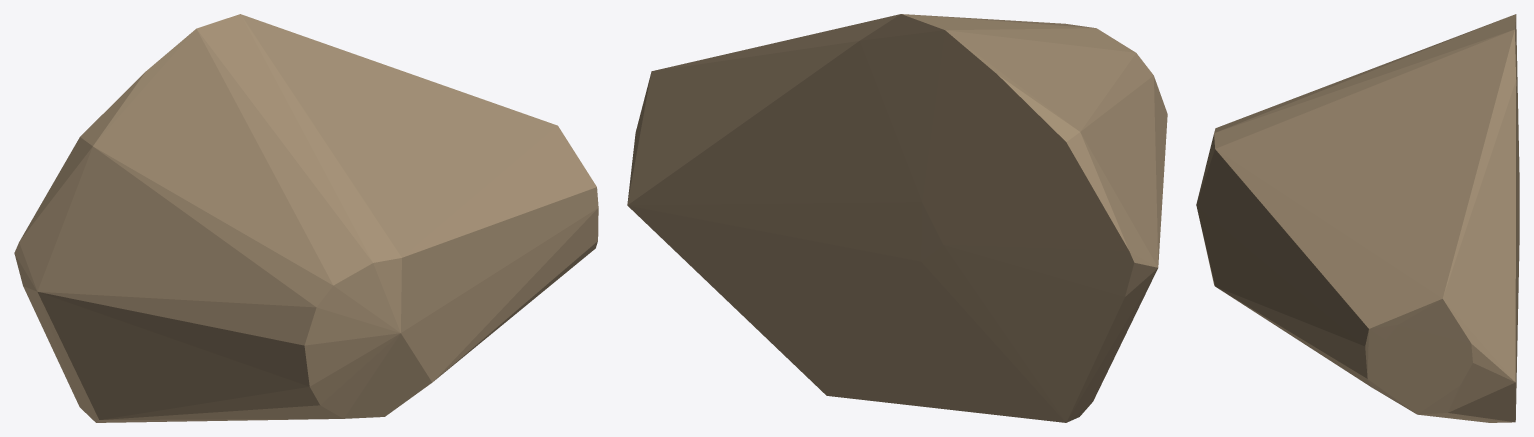
The model's file is engineComponent_water_pump_c01.glb.
3 views of the same model, side by side, from view 1: azimuth 30°, elevation 25°; view 2: azimuth 150°, elevation 25°; view 3: azimuth 270°, elevation 25° (orthographic). The views are drawn at different scales.
Parts seen in each view (by area): view 1: geometry_0; view 2: geometry_0; view 3: geometry_0.
Boxes of the visible parts, bbox=[...] form: geometry_0: bbox=[14, 14, 598, 422]; geometry_0: bbox=[627, 14, 1167, 422]; geometry_0: bbox=[1196, 14, 1519, 422].
Bounding box in the file's own units: 0.4781 × 0.3513 × 0.2836.
